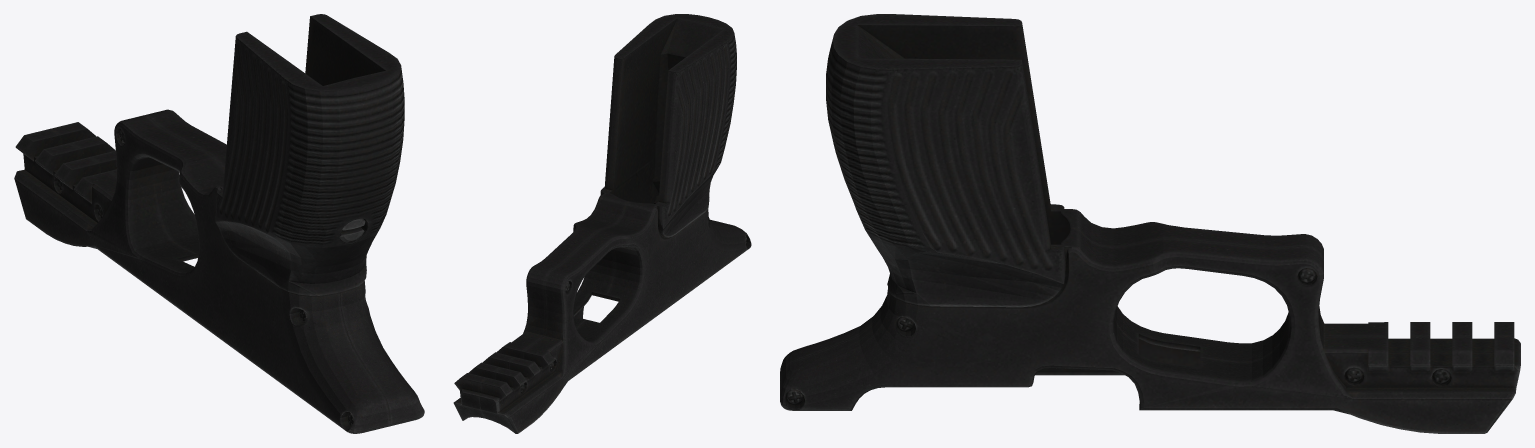
3 renders of one model, left to right at view 1: azimuth 30°, elevation 25°; view 2: azimuth 150°, elevation 25°; view 3: azimuth 270°, elevation 25°, orthographic. The views are drawn at different scales.
Parts seen in each view (by area): view 1: TW_637b6d610aef6cfc5e02dd14_PZ_Import; view 2: TW_637b6d610aef6cfc5e02dd14_PZ_Import; view 3: TW_637b6d610aef6cfc5e02dd14_PZ_Import.
Part boxes in pixels (x1,y1,x2,y2): TW_637b6d610aef6cfc5e02dd14_PZ_Import: (14, 14, 424, 433); TW_637b6d610aef6cfc5e02dd14_PZ_Import: (453, 14, 751, 433); TW_637b6d610aef6cfc5e02dd14_PZ_Import: (780, 14, 1520, 433).
Bounding box in the file's own units: 0.0181 × 0.102 × 0.0566.
1 material, 1 textured.
